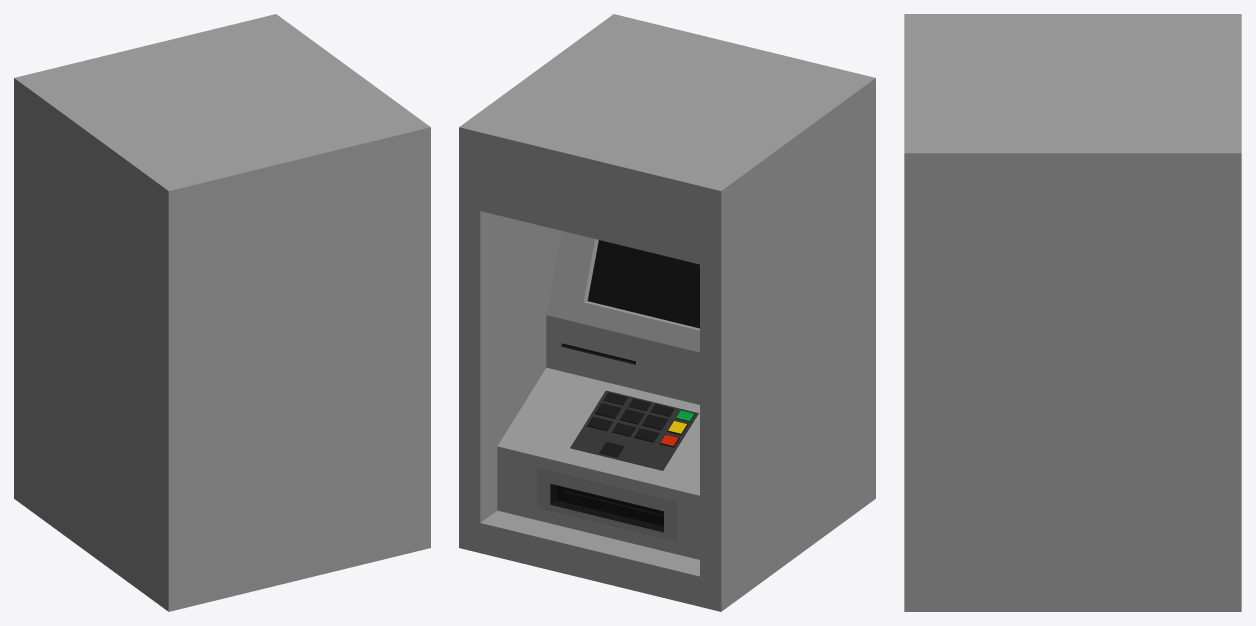
File: atm.obj
The picture shows the model from 3 angles, left to right: view 1: azimuth 30°, elevation 25°; view 2: azimuth 150°, elevation 25°; view 3: azimuth 270°, elevation 25°; orthographic projection. The views are drawn at different scales.
Parts seen in each view (by area): view 1: Cube.001_Cube; view 2: Cube.001_Cube; view 3: Cube.001_Cube.
Part boxes in pixels (x1,y1,x2,y2): Cube.001_Cube: (14, 14, 430, 611); Cube.001_Cube: (459, 14, 875, 611); Cube.001_Cube: (904, 14, 1241, 611).
Bounding box in the file's own units: 0.9873 × 1.51 × 1.01.
Materials: 1 (1 with a texture image).
